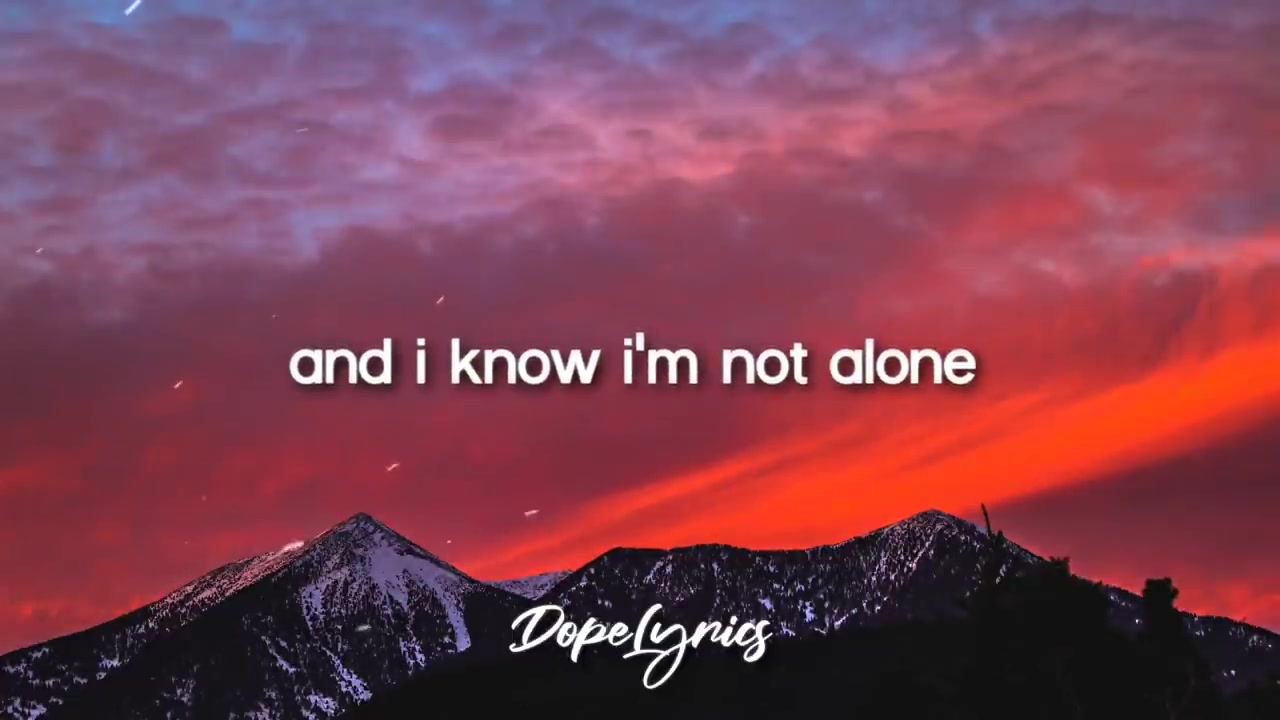text-label: (281, 330, 981, 392)
